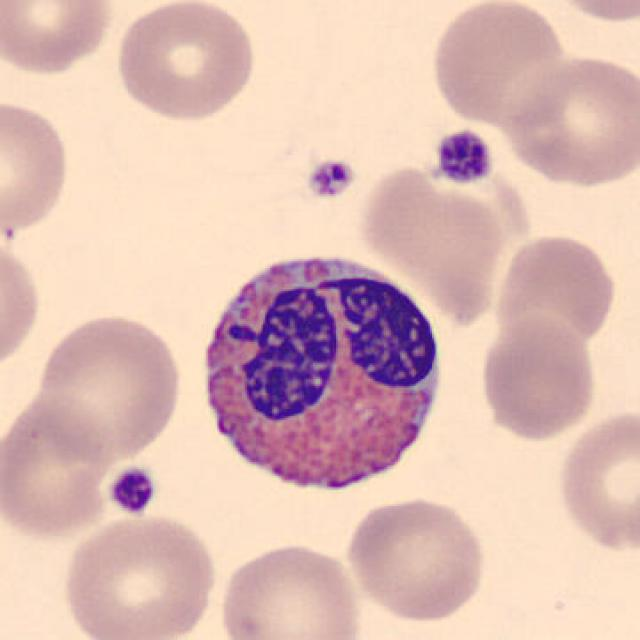Eosinophil: (187, 236, 453, 512)
Platelets: (428, 127, 496, 189), (105, 464, 158, 516), (302, 155, 359, 203)
RBC: (356, 157, 512, 326), (28, 308, 186, 462), (58, 509, 220, 640), (341, 492, 491, 626), (500, 50, 638, 190), (426, 0, 574, 130), (110, 0, 260, 125), (0, 393, 121, 543), (476, 312, 601, 443), (489, 229, 620, 353), (213, 537, 366, 640), (553, 404, 638, 557), (0, 95, 75, 236), (0, 0, 117, 77), (0, 236, 44, 379), (537, 0, 640, 26)
